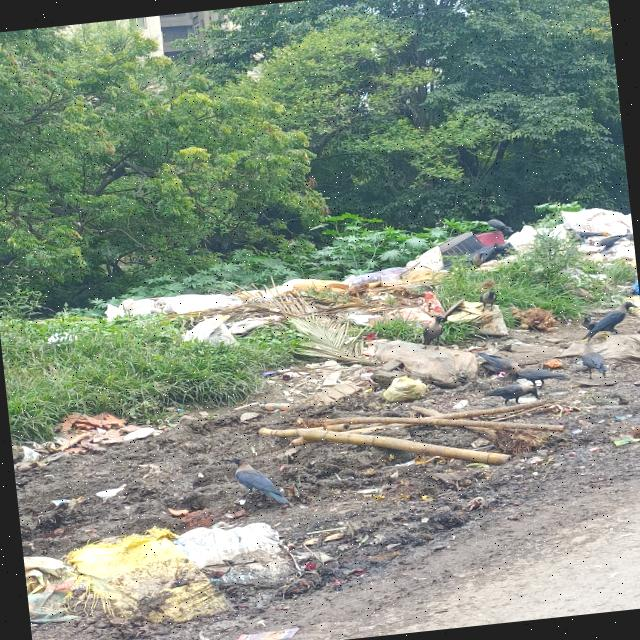garbage: (371, 204, 640, 332), (22, 515, 297, 640), (114, 271, 386, 374), (376, 318, 634, 401)
